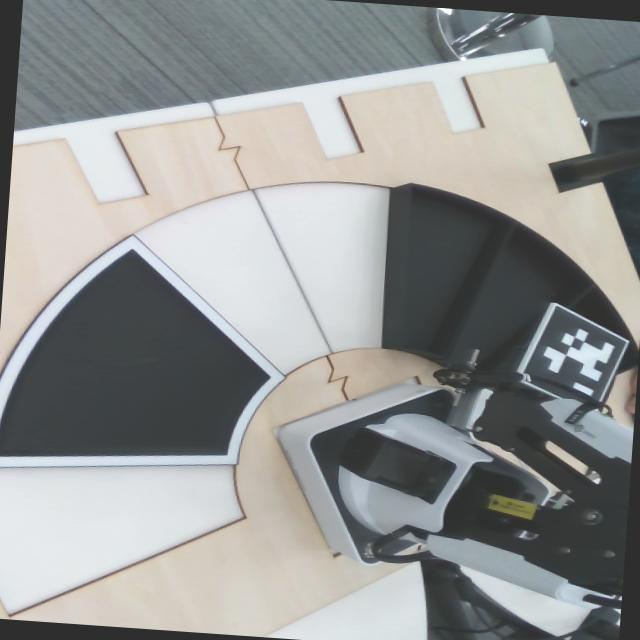board: (0, 226, 291, 503)
box: (419, 219, 598, 410), (342, 181, 515, 373), (473, 284, 638, 426)
